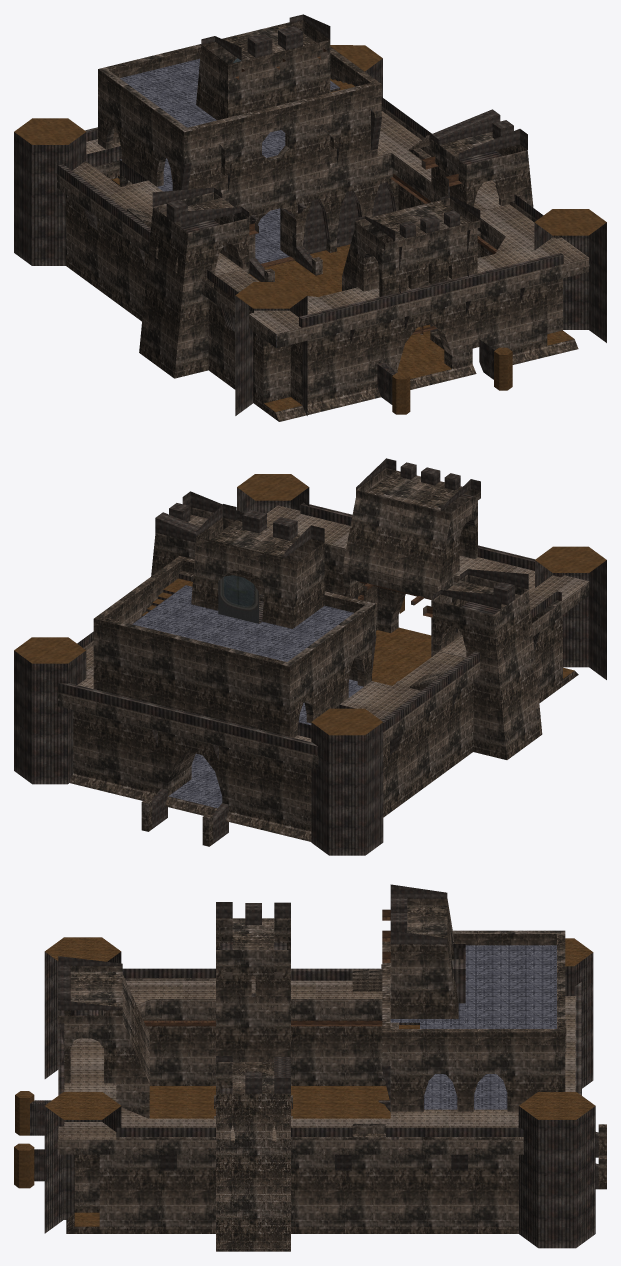
File: components_city_castle.glb
3 renders of one model, top to bottom at view 1: azimuth 30°, elevation 25°; view 2: azimuth 150°, elevation 25°; view 3: azimuth 270°, elevation 25°, orthographic. The views are drawn at different scales.
Visible parts, largest first — view 1: city_castle; view 2: city_castle; view 3: city_castle.
Part boxes in pixels (bbox=[...]): city_castle: bbox=[14, 14, 606, 421]; city_castle: bbox=[14, 458, 606, 855]; city_castle: bbox=[14, 884, 606, 1251].
Size of the model in its own units: 53.97 by 35 by 71.31.
9 materials, 9 textured.
